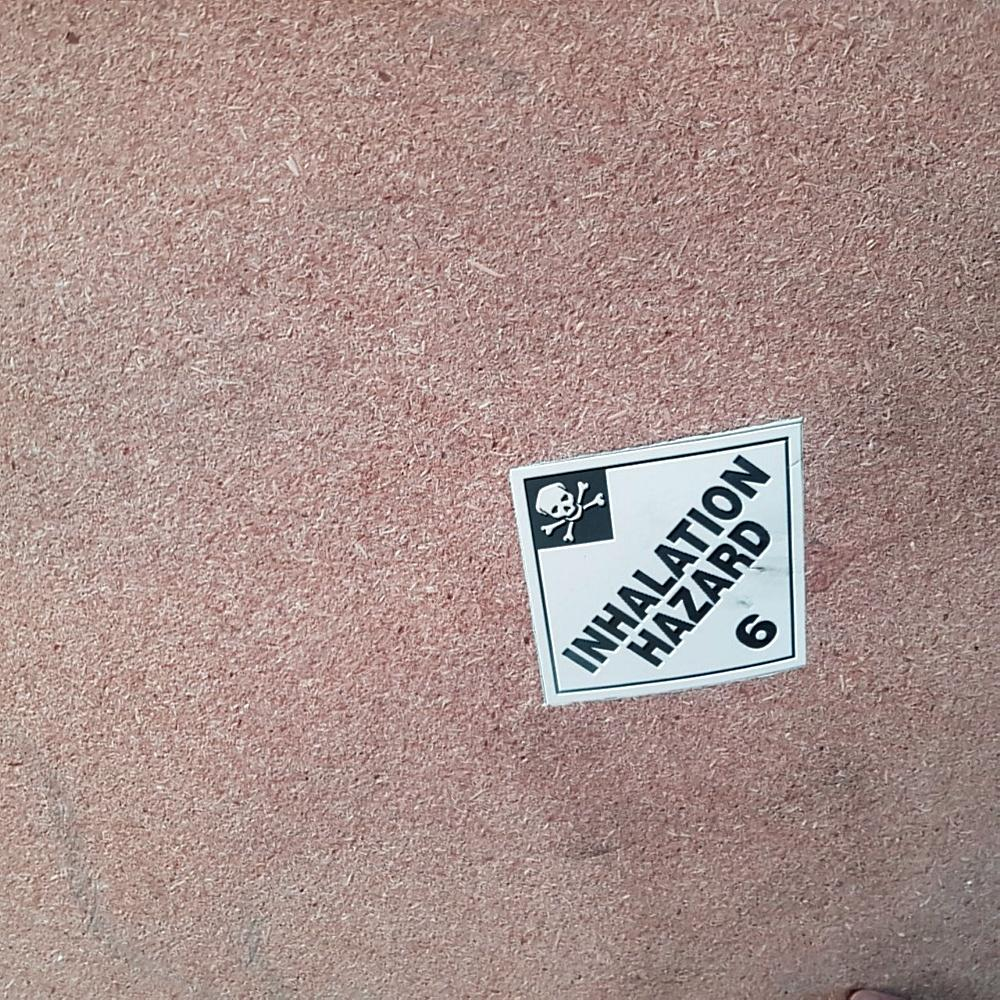poison: (508, 416, 810, 709)
